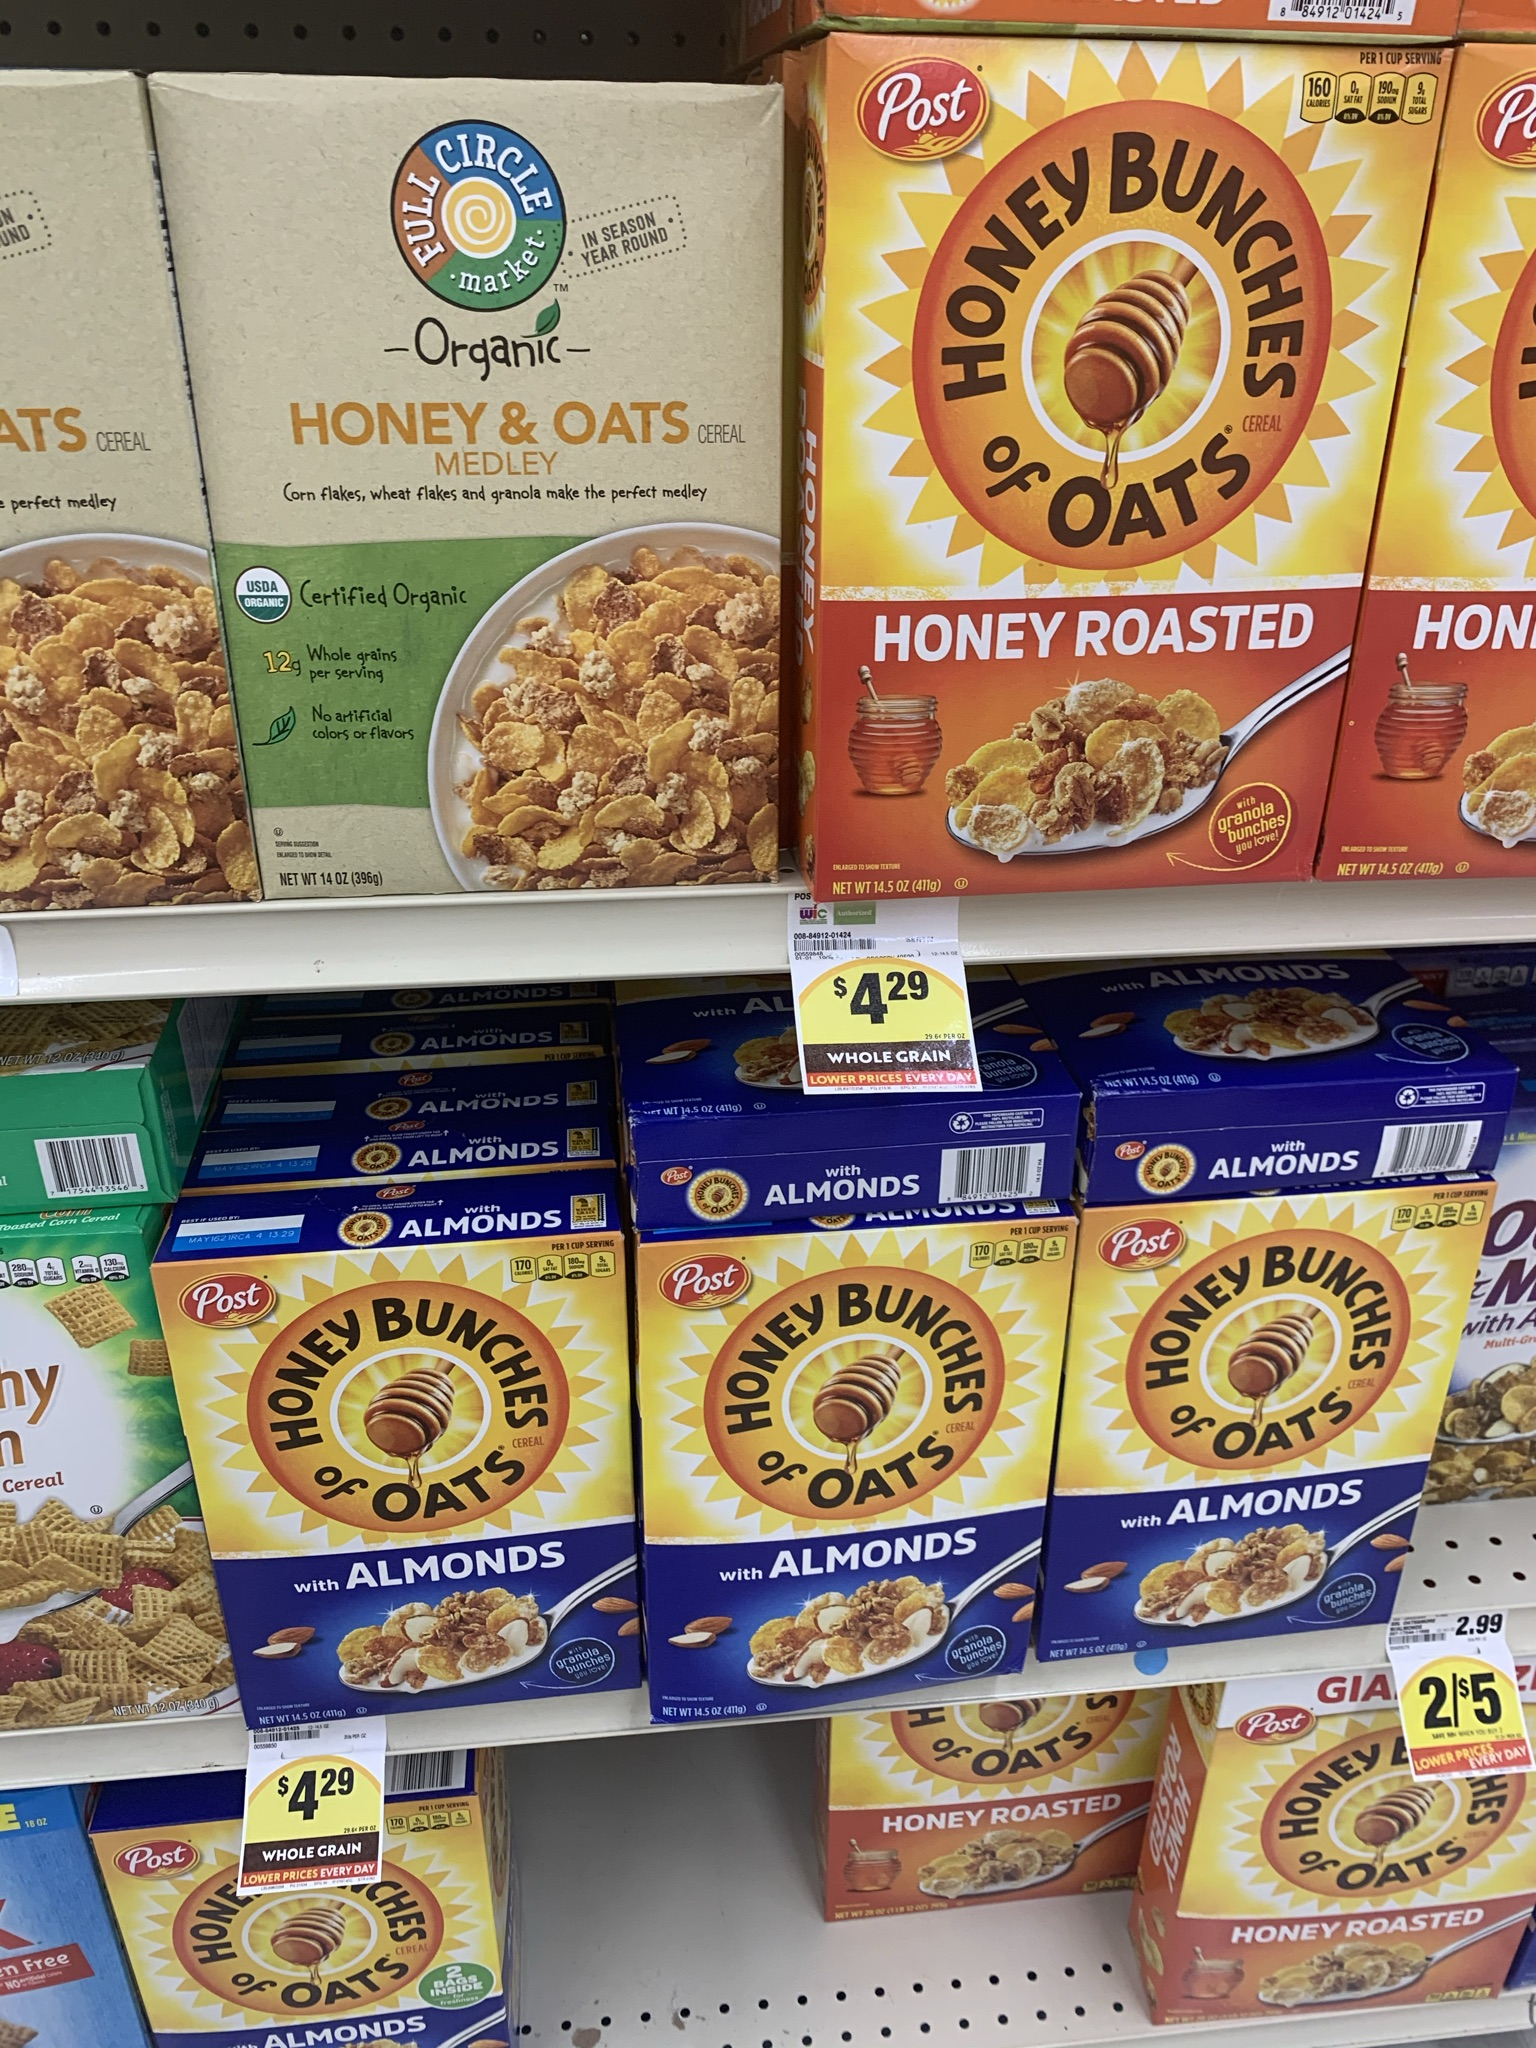box: (273, 119, 778, 887), (842, 53, 1312, 868), (245, 1272, 636, 1692), (674, 1256, 1023, 1680), (2, 98, 148, 906), (1125, 1227, 1391, 1622), (1210, 1784, 1510, 2001), (2, 1279, 142, 1717)
